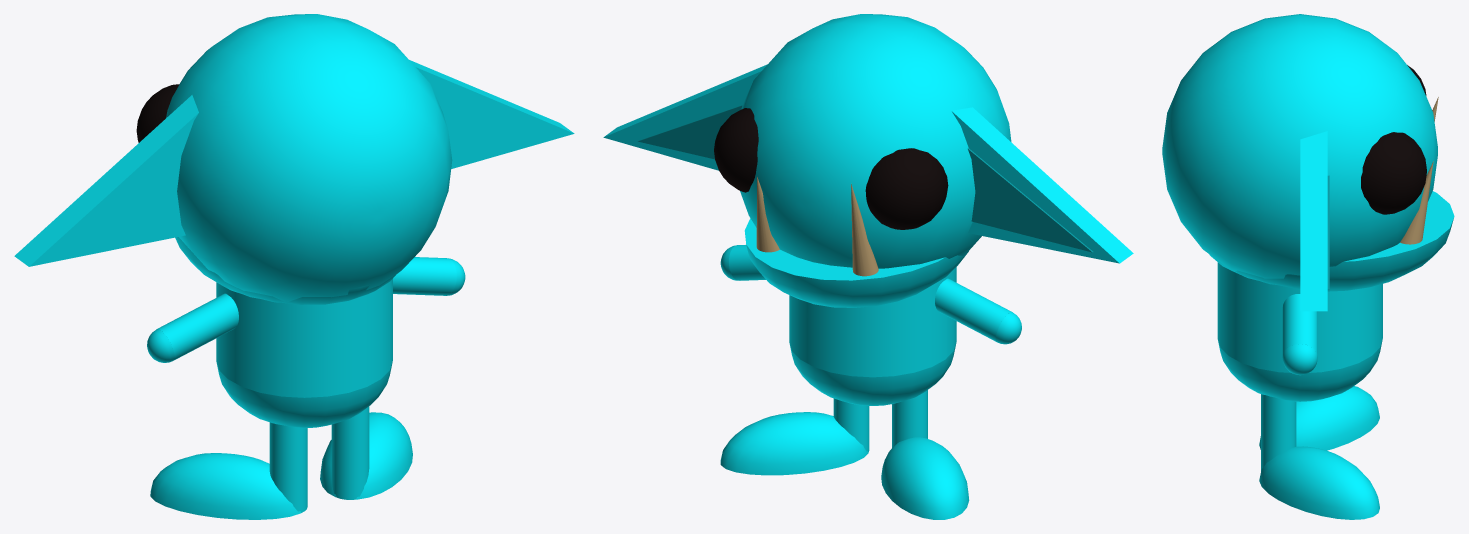
File: goblin_blue.glb
3 views of the same model, side by side, from view 1: azimuth 30°, elevation 25°; view 2: azimuth 150°, elevation 25°; view 3: azimuth 270°, elevation 25° (orthographic). The views are drawn at different scales.
Parts seen in each view (by area): view 1: mergedBlocks(Clone); view 2: mergedBlocks(Clone); view 3: mergedBlocks(Clone).
Boxes of the visible parts, left/top/right/bottom form: mergedBlocks(Clone): left=14, top=14, right=574, bottom=519; mergedBlocks(Clone): left=603, top=14, right=1133, bottom=519; mergedBlocks(Clone): left=1162, top=14, right=1454, bottom=519.
Size of the model in its own units: 0.7491 by 0.6098 by 0.371.
